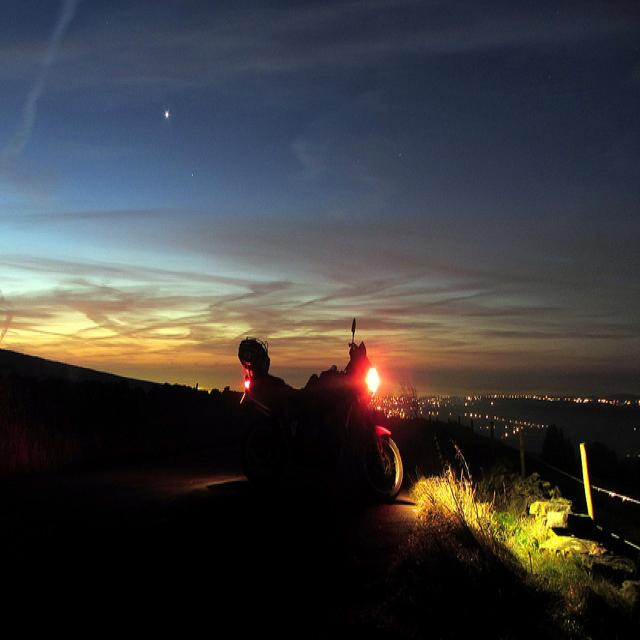Motorbike: (230, 317, 407, 508)
